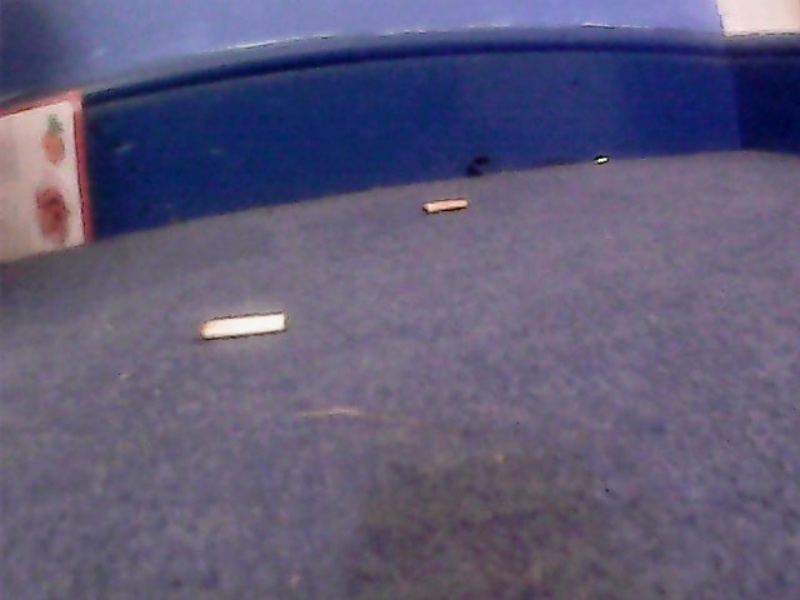cig: (190, 304, 295, 345), (418, 193, 474, 219)
